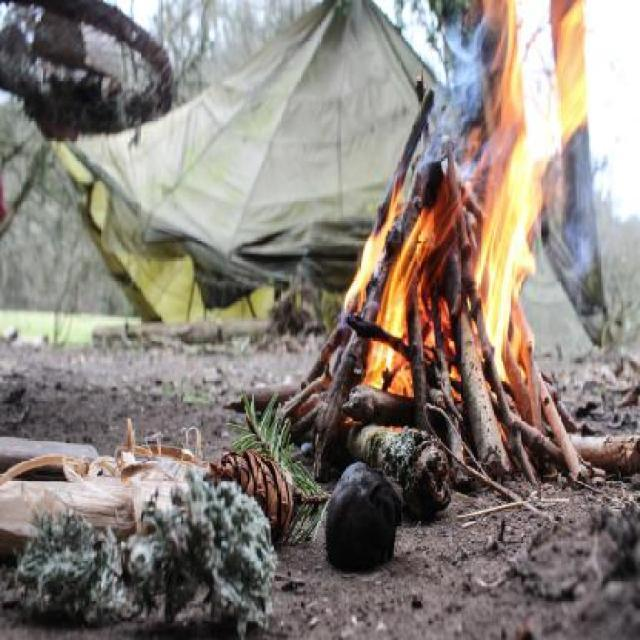Fire: (474, 0, 590, 350), (372, 227, 424, 330), (352, 188, 399, 298), (368, 341, 400, 390)
